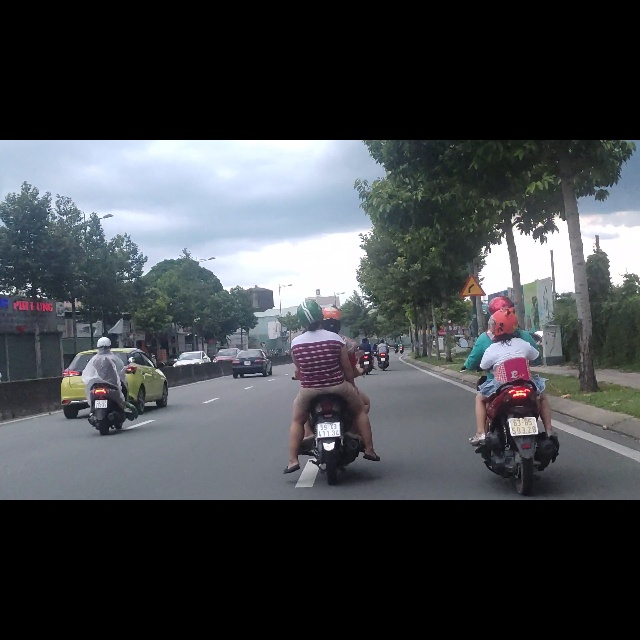bien_nguy_hiem: (458, 237, 487, 279)
